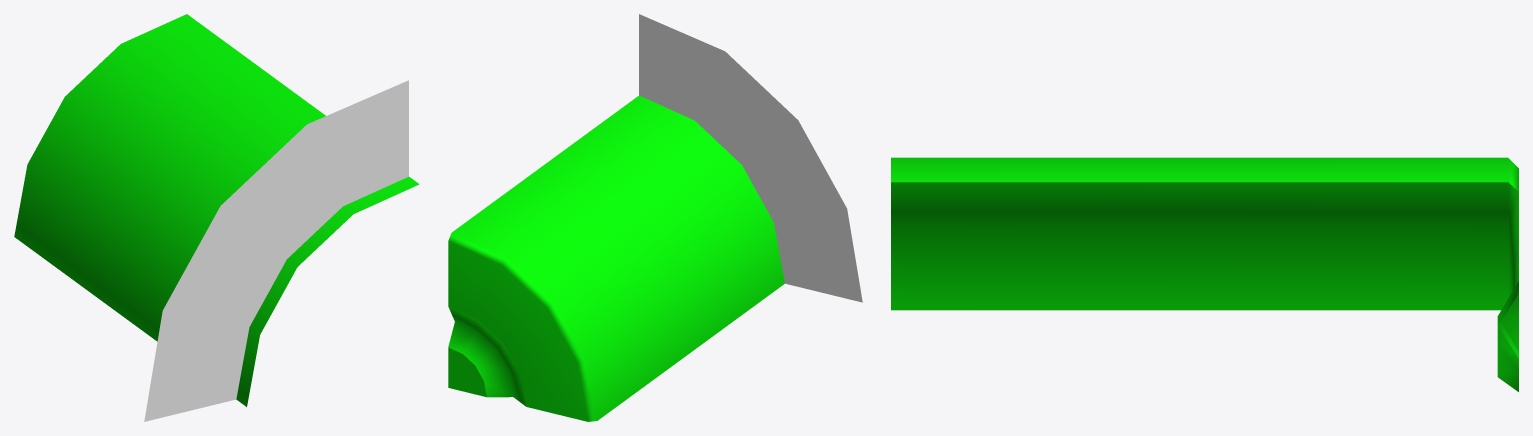
File: OuterCorner.fbx
The picture shows the model from 3 angles, left to right: view 1: azimuth 30°, elevation 25°; view 2: azimuth 150°, elevation 25°; view 3: azimuth 270°, elevation 25°; orthographic projection. The views are drawn at different scales.
Visible parts, largest first — view 1: OuterCorner; view 2: OuterCorner; view 3: OuterCorner.
Part boxes in pixels (<box>): OuterCorner: <box>14,14,419,421</box>; OuterCorner: <box>448,14,862,421</box>; OuterCorner: <box>891,157,1518,391</box>.
Size of the model in its own units: 115 by 115 by 178.
